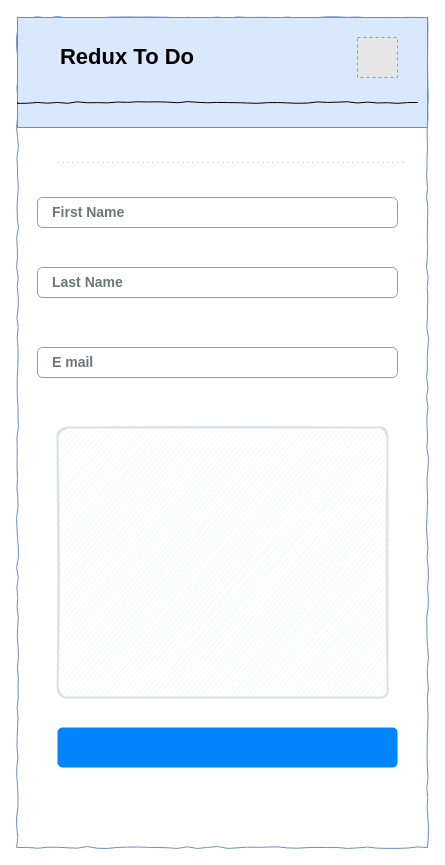
The diagram is 445 pixels wide and 865 high, and some of its shapes have lost their labels. Grey dashed boxes stand in for pictures. The box of each missing label's shape, as (x1, y1, x2, y2) in pixels:
Comments: (56, 426, 388, 698)
Submit: (57, 727, 397, 767)
